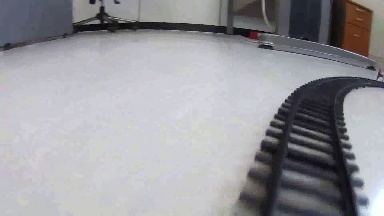tree: (371, 69, 384, 86)
